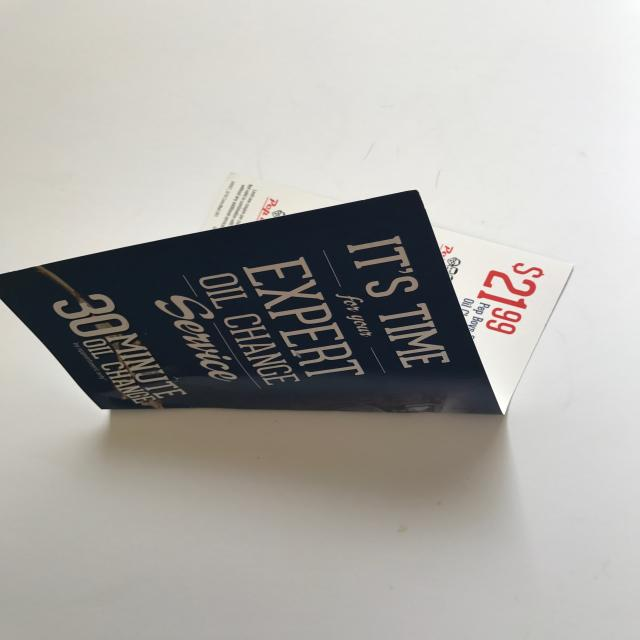paper: (1, 183, 573, 416)
